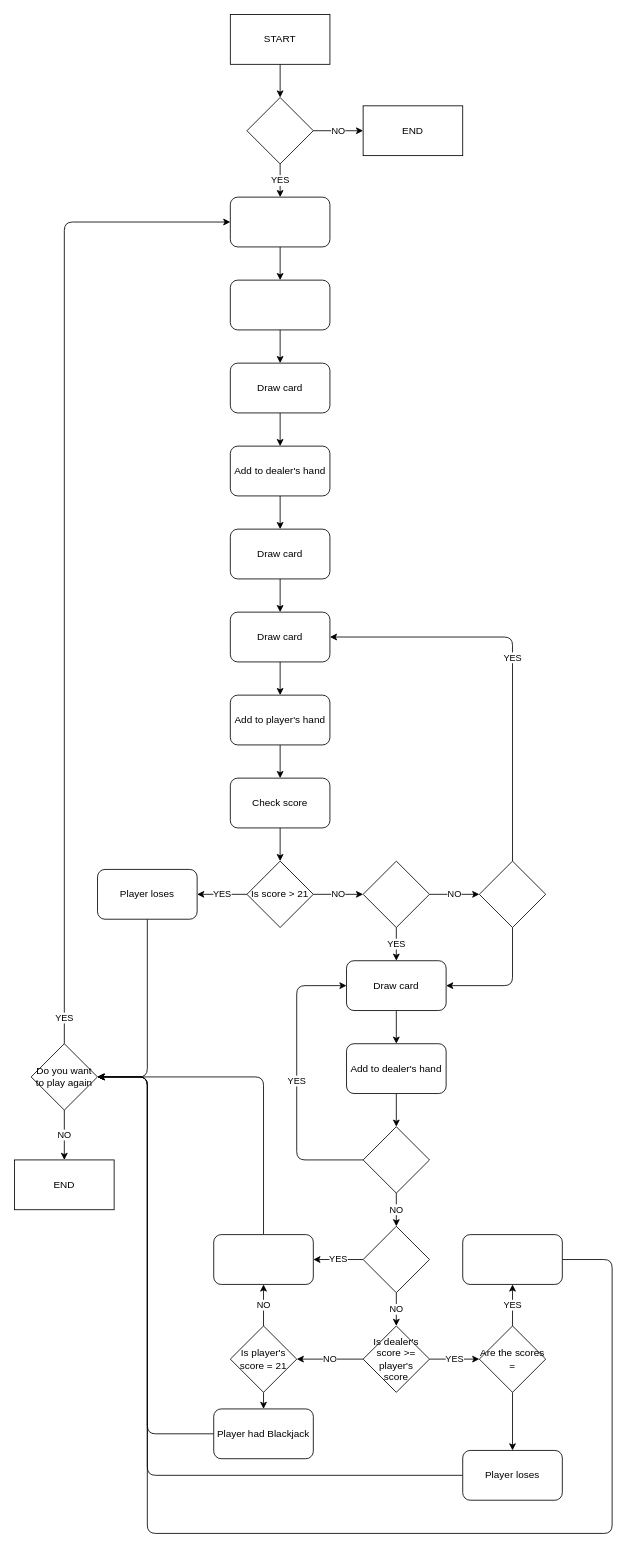
Some shapes in this 633 by 1555 pixel diagram are drawn without their labels. Here are the shapes that lost their labels. From the top down, the centre of each, then its label:
point (279, 130): Do you want to play
point (279, 221): Clear screen
point (279, 304): Draw logo
point (396, 894): Is score = 21
point (512, 894): Do you want to draw again?
point (396, 1159): Is dealer's score < 12
point (263, 1259): Player wins
point (396, 1259): Is dealer's score > 21
point (512, 1259): Draw
